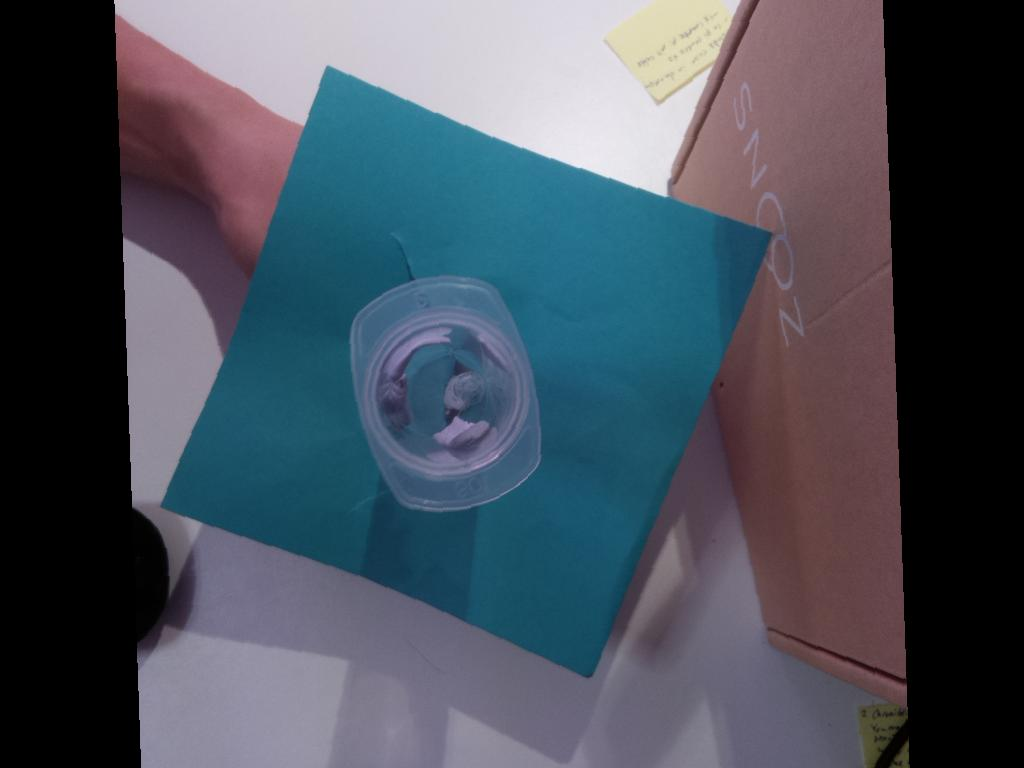dirty: (346, 273, 542, 512)
